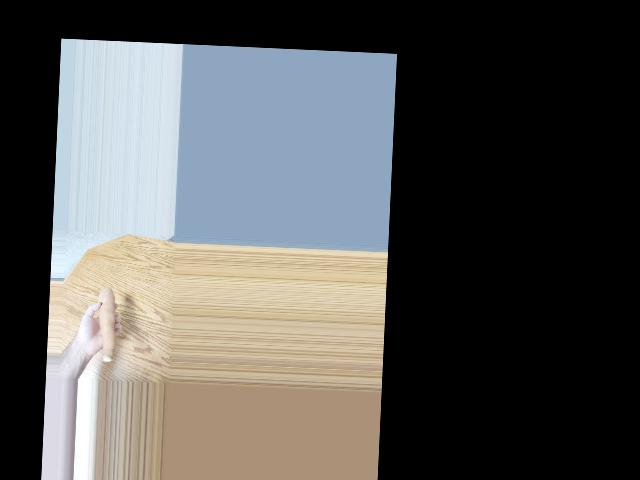sweet_potato: (99, 286, 122, 356)
